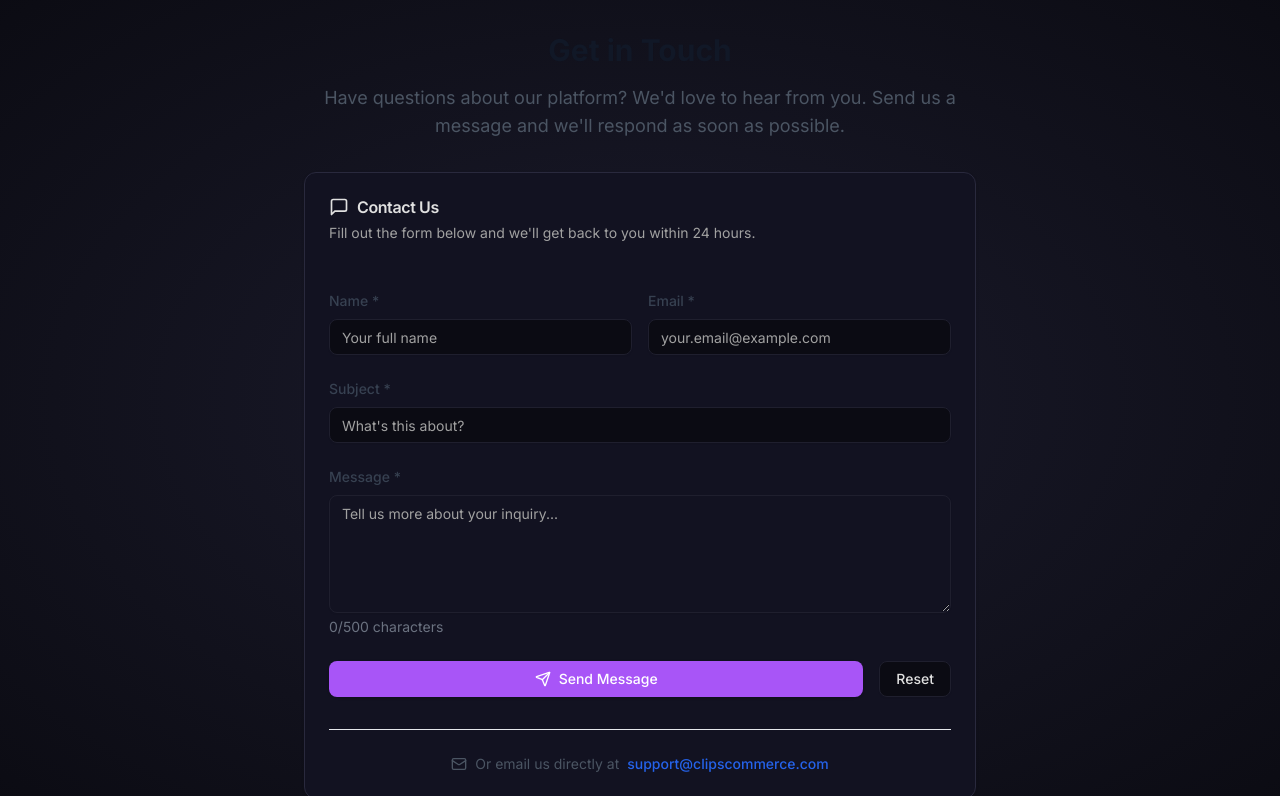
Test case: ContactSection › Form Interaction › should submit form with valid data and show success message
This screenshot has width=1280, height=796.
// Fill out the form
Type "John Doe" into the field labelled "Name *" at [480, 337], box x1=329 y1=319 x2=632 y2=355
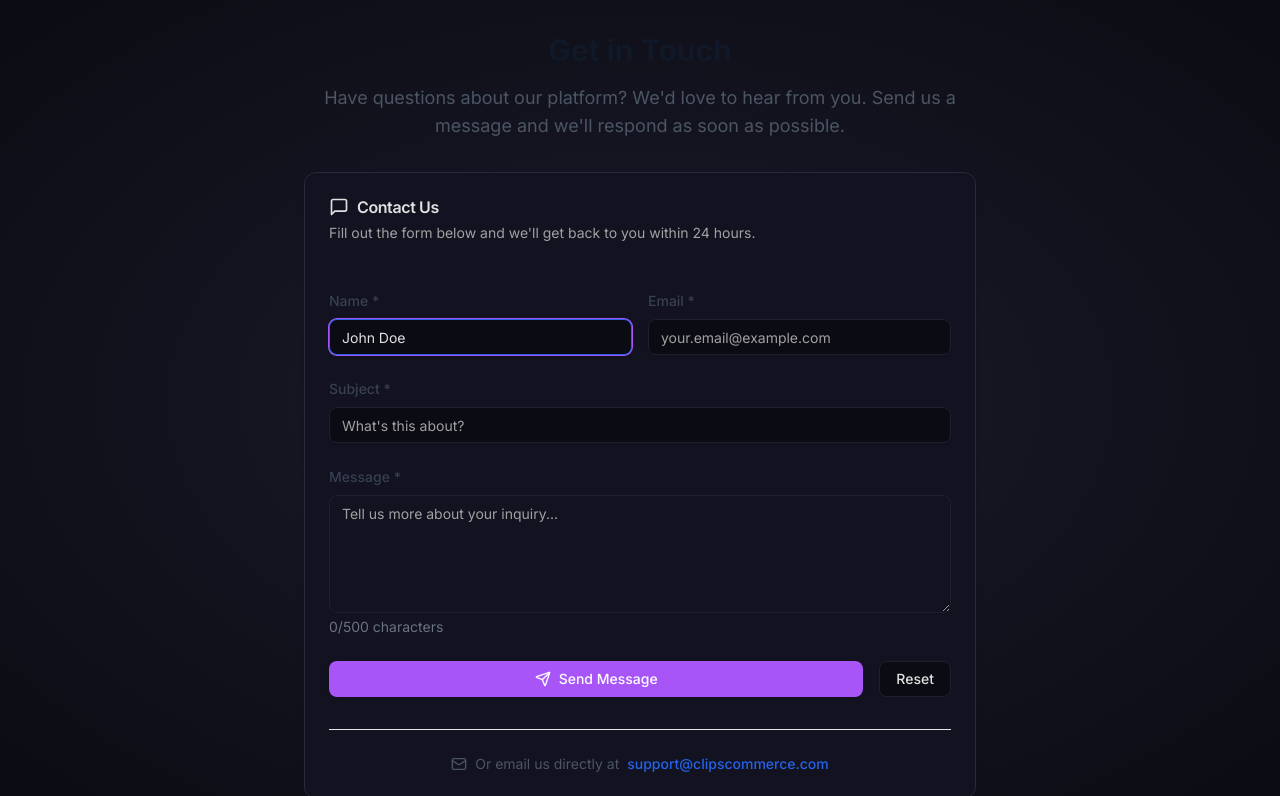
Type "john@example.com" into the field labelled "Email *" at [800, 337], box x1=648 y1=319 x2=951 y2=355
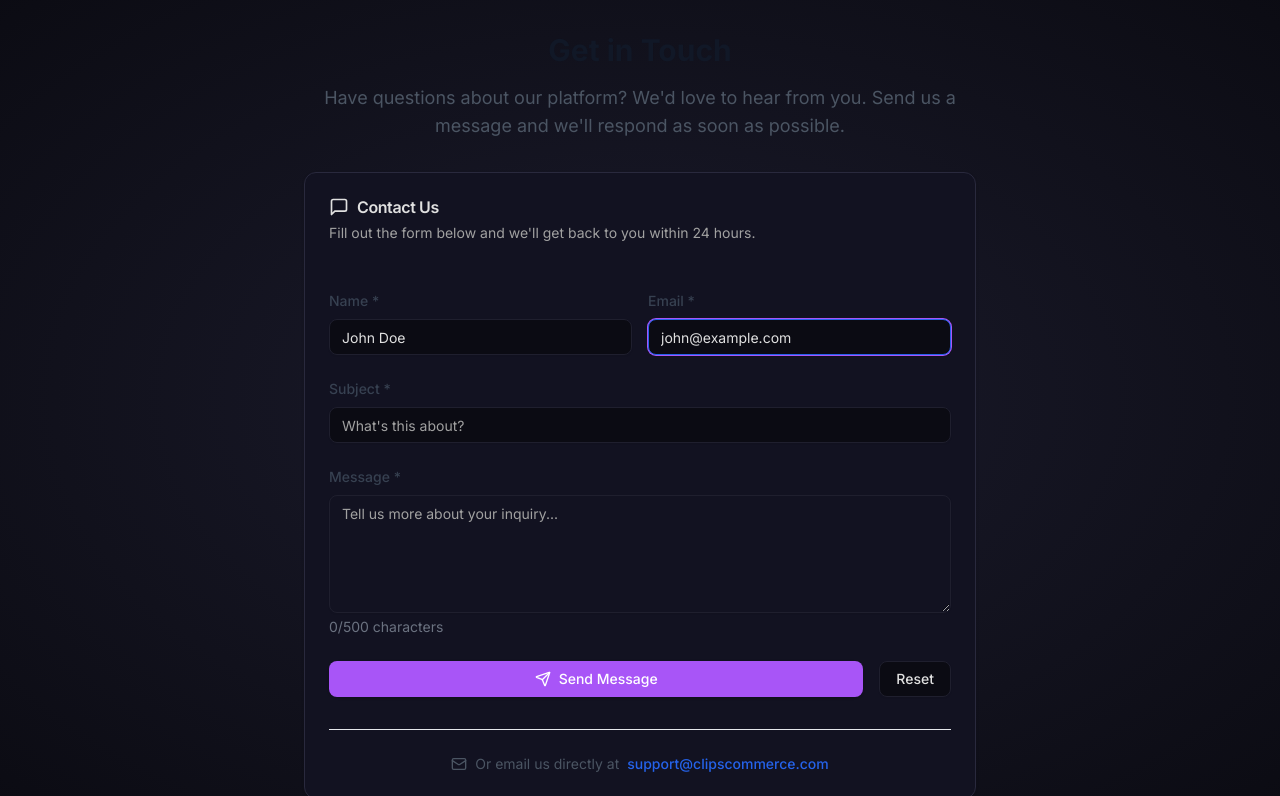
Type "Test Subject" into the field labelled "Subject *" at [640, 425], box x1=329 y1=407 x2=951 y2=443
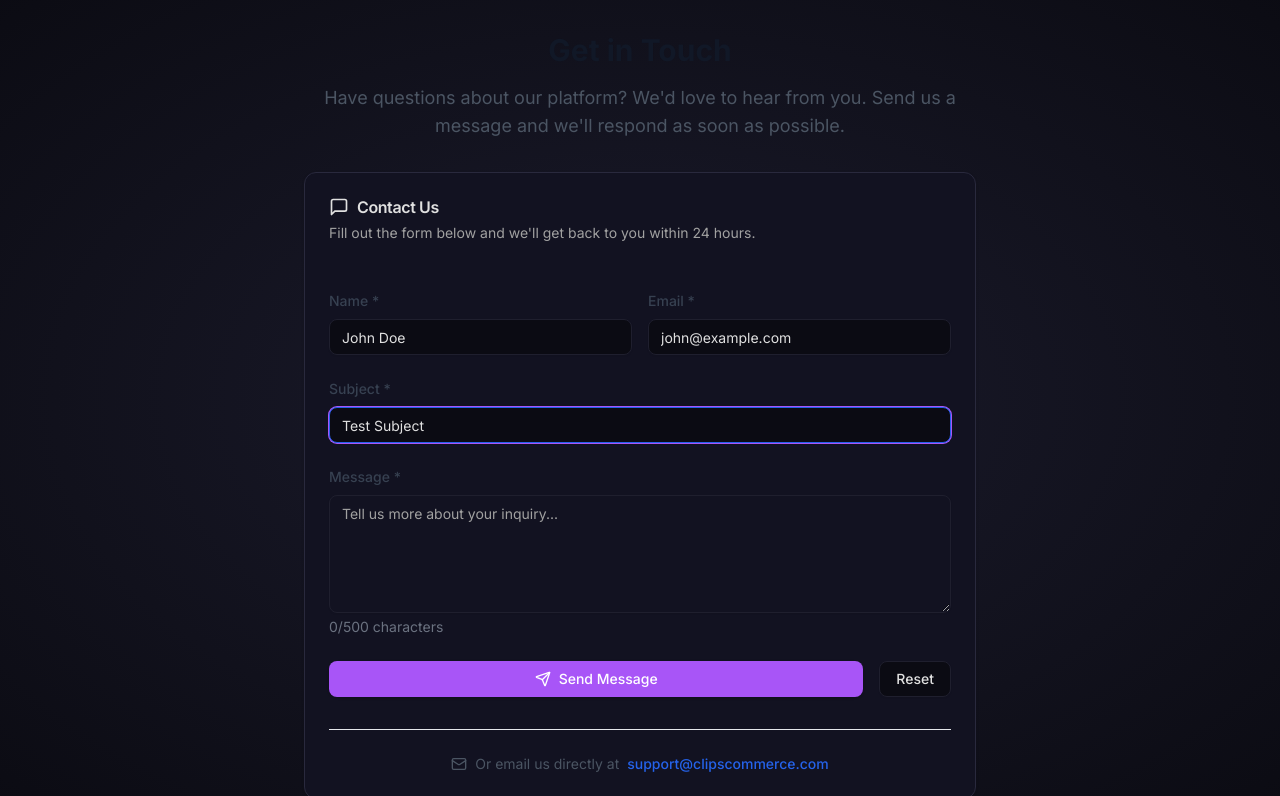
Type "Test message that is long enough" into the text box labelled "Message *" at [640, 554], box x1=329 y1=495 x2=951 y2=613
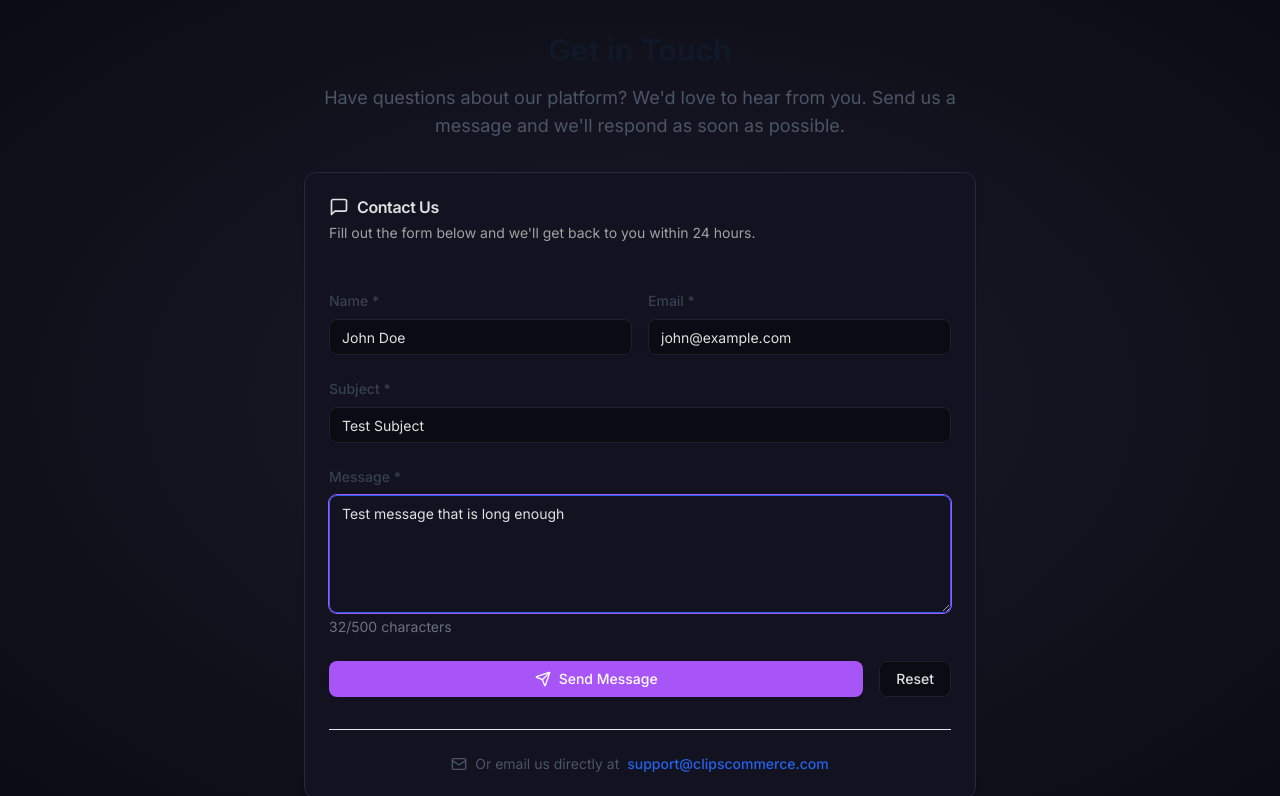
// Submit the form
Click the button "Send Message" at [596, 679], box x1=329 y1=661 x2=863 y2=697
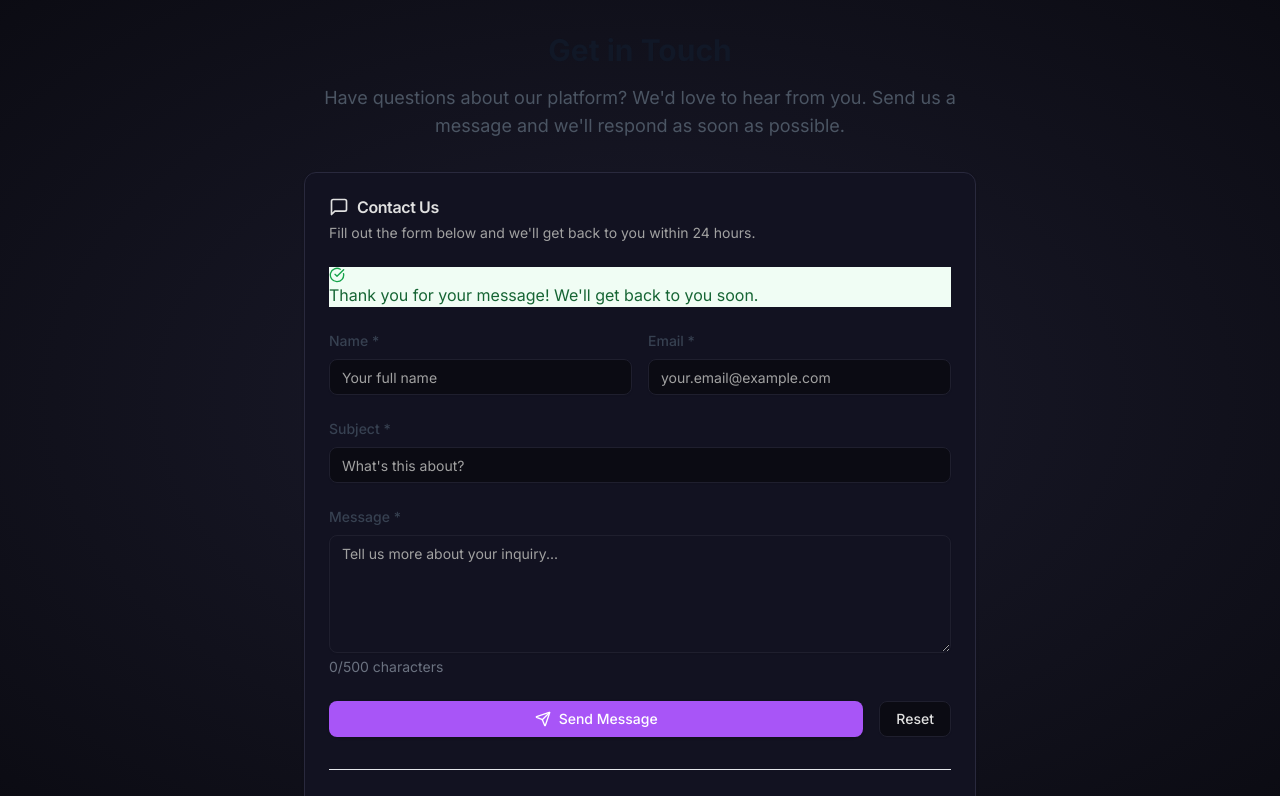
Expected: the text "Thank you for your message! We'll get back to you soon." is shown, x1=329 y1=285 x2=758 y2=305
Expected: the field labelled "Name *" is empty, x1=329 y1=359 x2=632 y2=395
Expected: the field labelled "Email *" is empty, x1=648 y1=359 x2=951 y2=395
